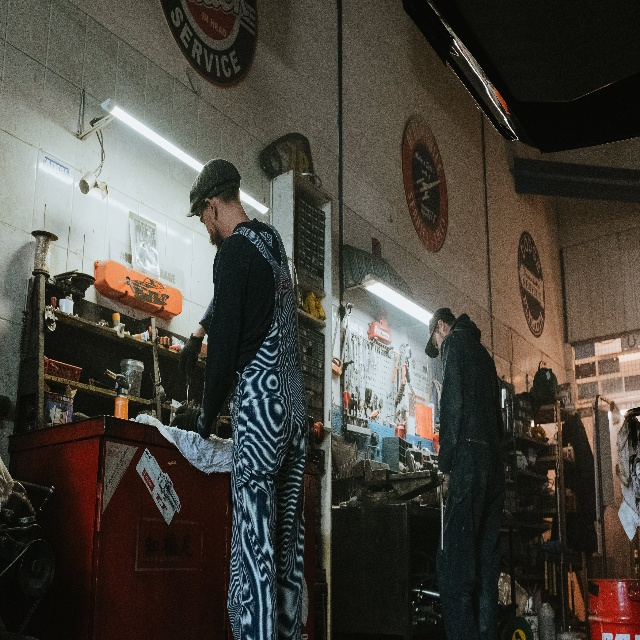Guantes: (178, 331, 204, 385), (170, 404, 200, 434)
